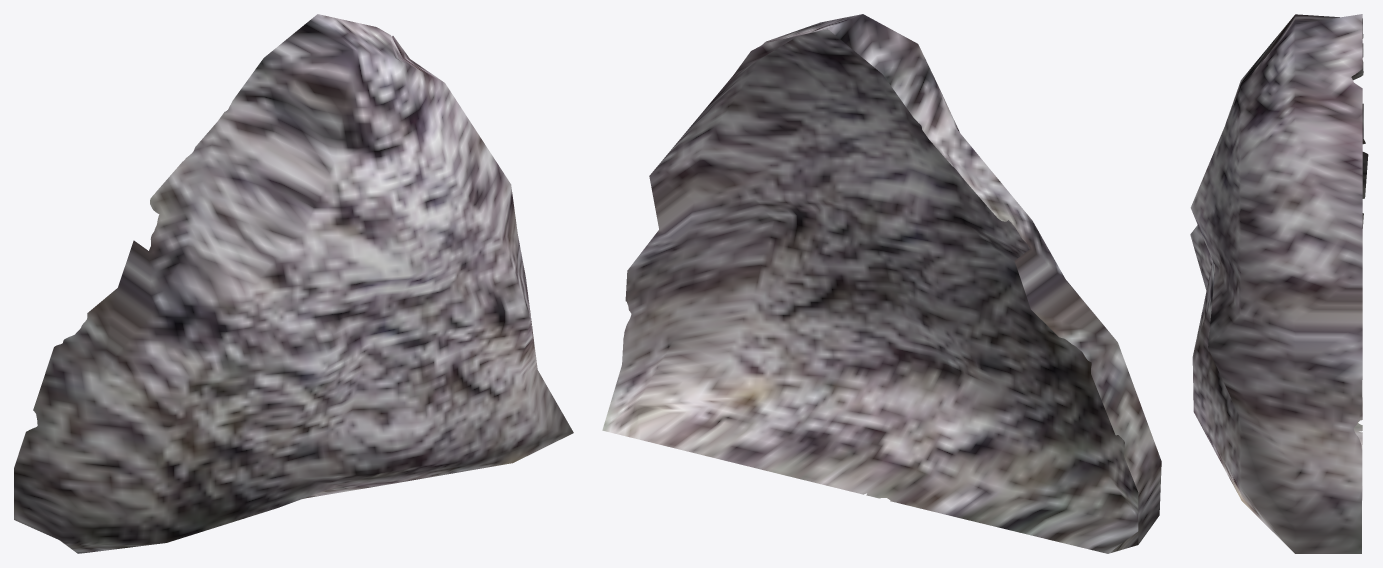
File: bug_nest_1.FBX
3 views of the same model, side by side, from view 1: azimuth 30°, elevation 25°; view 2: azimuth 150°, elevation 25°; view 3: azimuth 270°, elevation 25° (orthographic). The views are drawn at different scales.
Visible parts, largest first — view 1: bug_nest_1; view 2: bug_nest_1; view 3: bug_nest_1.
Boxes of the visible parts, left/top/right/bottom form: bug_nest_1: left=14, top=14, right=573, bottom=553; bug_nest_1: left=602, top=14, right=1161, bottom=553; bug_nest_1: left=1190, top=14, right=1368, bottom=553.
Size of the model in its own units: 48 by 39.07 by 14.53.
